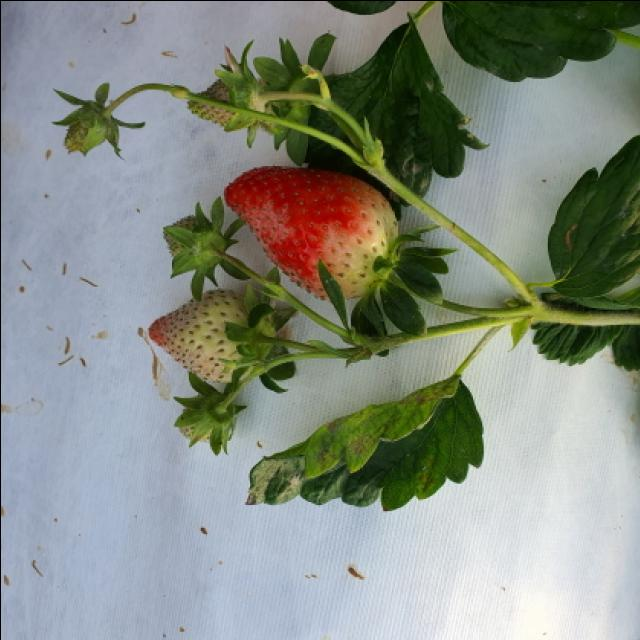Powdery Mildew Fruit: (228, 199, 311, 292)
